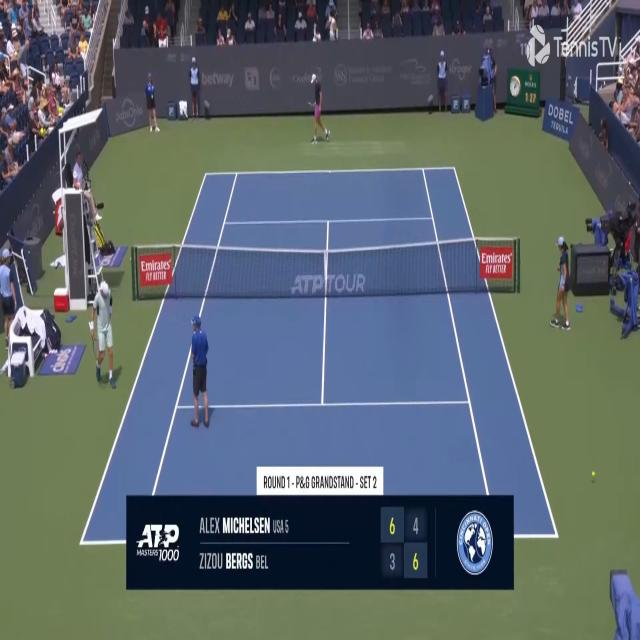tennis-player: (87, 278, 120, 391), (307, 70, 332, 147)
